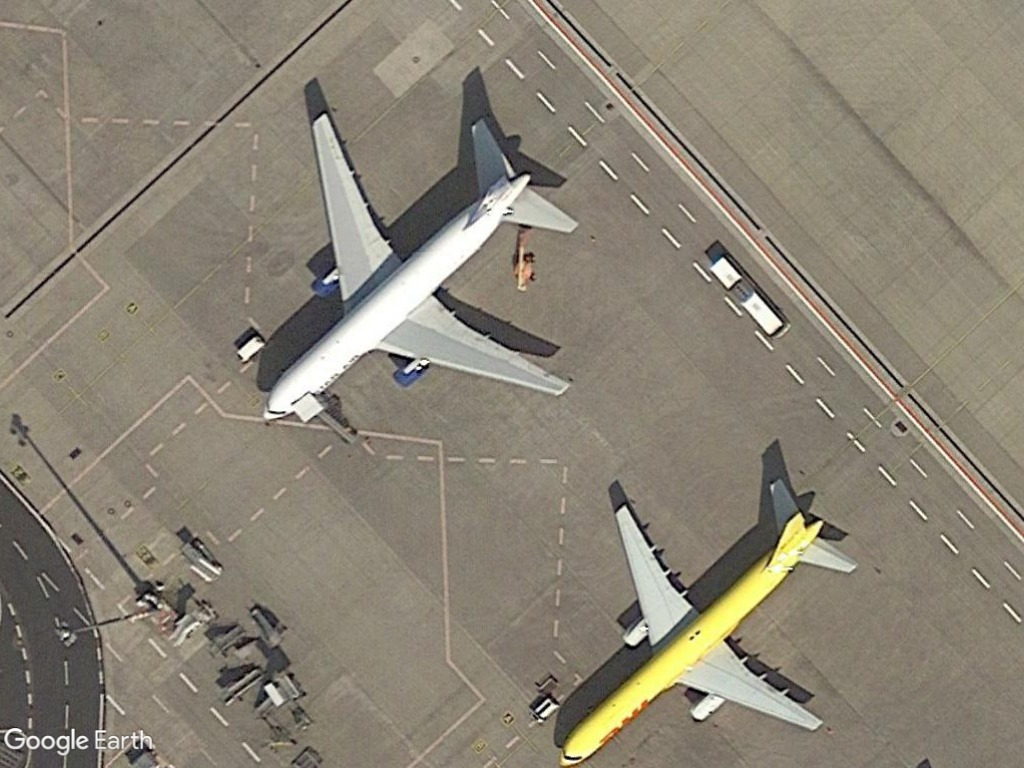airliner: (259, 106, 583, 429), (555, 467, 864, 768)
bus: (704, 252, 788, 341)
